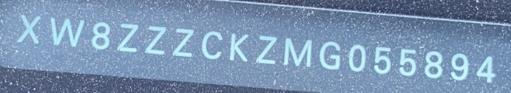letter: (47, 16, 89, 47), (280, 34, 314, 69), (16, 12, 46, 46), (113, 20, 142, 53), (227, 30, 256, 63), (170, 26, 198, 59), (316, 38, 344, 71), (142, 22, 169, 55), (253, 33, 280, 66), (344, 40, 371, 73), (419, 48, 447, 79), (199, 28, 225, 61), (369, 43, 395, 76), (473, 53, 500, 84), (447, 48, 471, 82), (88, 19, 113, 50), (396, 44, 418, 79)
